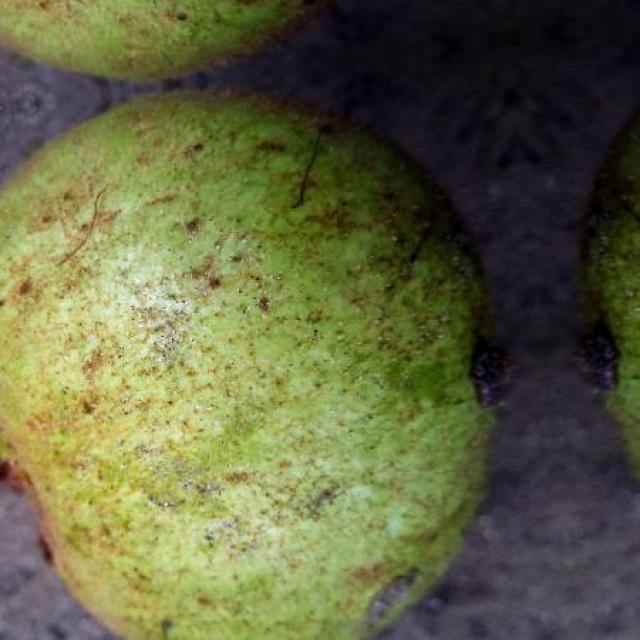Scab: (0, 95, 490, 639)
